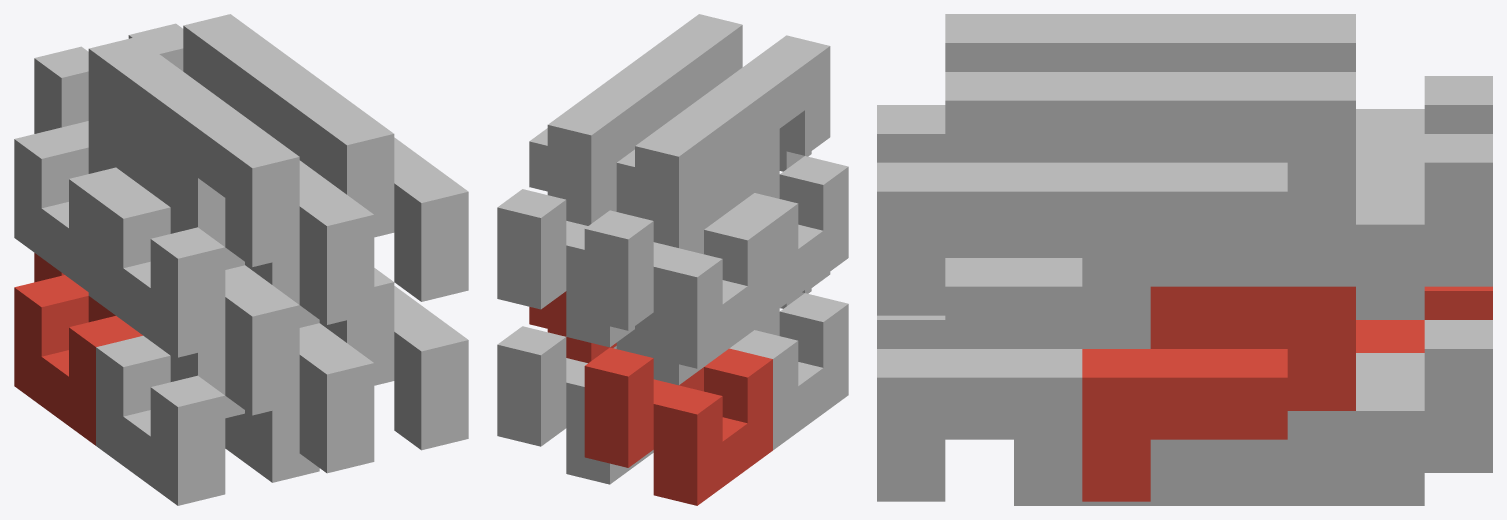
The model's file is tiling.obj.
The picture shows the model from 3 angles, left to right: view 1: azimuth 30°, elevation 25°; view 2: azimuth 150°, elevation 25°; view 3: azimuth 270°, elevation 25°; orthographic projection. The views are drawn at different scales.
Parts seen in each view (by area): view 1: copy_2_domain_4, copy_2_domain_8, copy_2_domain_2, copy_1_domain_4, copy_1_domain_2, copy_1_domain_3, copy_2_domain_6, copy_1_domain_1, copy_2_domain_3, copy_2_domain_7, copy_1_domain_6, copy_1_domain_8 (+1 smaller); view 2: copy_1_domain_3, copy_1_domain_1, copy_2_domain_3, copy_2_domain_7, copy_1_domain_4, copy_1_domain_5, copy_1_domain_7, copy_2_domain_4, copy_1_domain_2, copy_2_domain_8, copy_2_domain_1, copy_2_domain_5; view 3: copy_2_domain_7, copy_2_domain_8, copy_2_domain_5, copy_2_domain_6, copy_1_domain_5, copy_1_domain_7, copy_2_domain_4, copy_1_domain_6, copy_2_domain_3, copy_1_domain_3, copy_1_domain_8, copy_1_domain_1 (+1 smaller).
Part boxes in pixels (left/top/right/bottom): copy_2_domain_4: left=170, top=97, right=374, bottom=324; copy_2_domain_8: left=265, top=74, right=468, bottom=301; copy_2_domain_2: left=170, top=265, right=374, bottom=473; copy_1_domain_4: left=96, top=118, right=244, bottom=357; copy_1_domain_2: left=96, top=312, right=244, bottom=505; copy_1_domain_3: left=14, top=46, right=142, bottom=297; copy_2_domain_6: left=319, top=268, right=468, bottom=450; copy_1_domain_1: left=14, top=253, right=142, bottom=445; copy_2_domain_3: left=88, top=37, right=217, bottom=206; copy_2_domain_7: left=183, top=14, right=311, bottom=130; copy_1_domain_6: left=225, top=404, right=319, bottom=482; copy_1_domain_8: left=245, top=256, right=319, bottom=327; copy_1_domain_3: left=584, top=210, right=772, bottom=368; copy_1_domain_1: left=584, top=347, right=772, bottom=505; copy_2_domain_3: left=616, top=91, right=754, bottom=247; copy_2_domain_7: left=529, top=69, right=666, bottom=225; copy_1_domain_4: left=704, top=156, right=848, bottom=312; copy_1_domain_5: left=497, top=326, right=653, bottom=484; copy_1_domain_7: left=497, top=189, right=634, bottom=347; copy_2_domain_4: left=711, top=35, right=830, bottom=192; copy_1_domain_2: left=704, top=293, right=848, bottom=450; copy_2_domain_8: left=624, top=14, right=742, bottom=122; copy_2_domain_1: left=616, top=312, right=754, bottom=385; copy_2_domain_5: left=529, top=291, right=616, bottom=363; copy_2_domain_7: left=1082, top=72, right=1355, bottom=315; copy_2_domain_8: left=877, top=72, right=1150, bottom=315; copy_2_domain_5: left=1082, top=286, right=1355, bottom=501; copy_2_domain_6: left=877, top=258, right=1150, bottom=501; copy_1_domain_5: left=1219, top=320, right=1492, bottom=505; copy_1_domain_7: left=1287, top=134, right=1492, bottom=319; copy_2_domain_4: left=877, top=14, right=1150, bottom=162; copy_1_domain_6: left=1014, top=439, right=1287, bottom=505; copy_2_domain_3: left=1150, top=14, right=1355, bottom=71; copy_1_domain_3: left=1356, top=76, right=1492, bottom=166; copy_1_domain_8: left=1014, top=253, right=1287, bottom=286; copy_1_domain_1: left=1356, top=286, right=1492, bottom=352.
Bounding box in the file's own units: 5 × 7 × 9.
